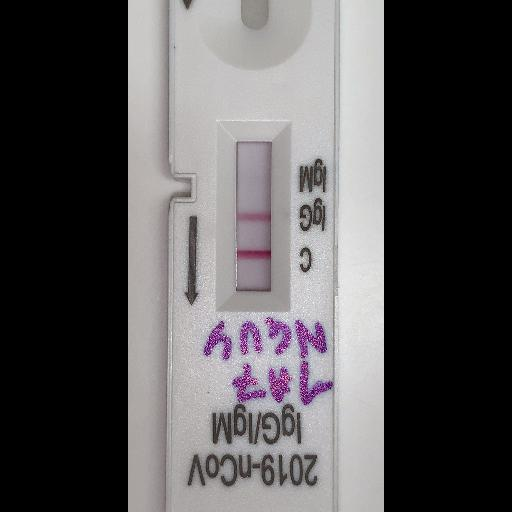Pos: (168, 0, 340, 511)
